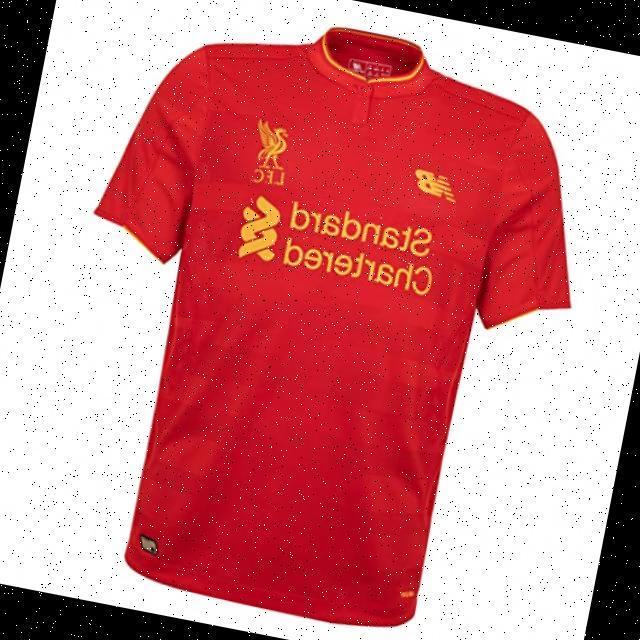Standard Chartered: (233, 191, 445, 295)
